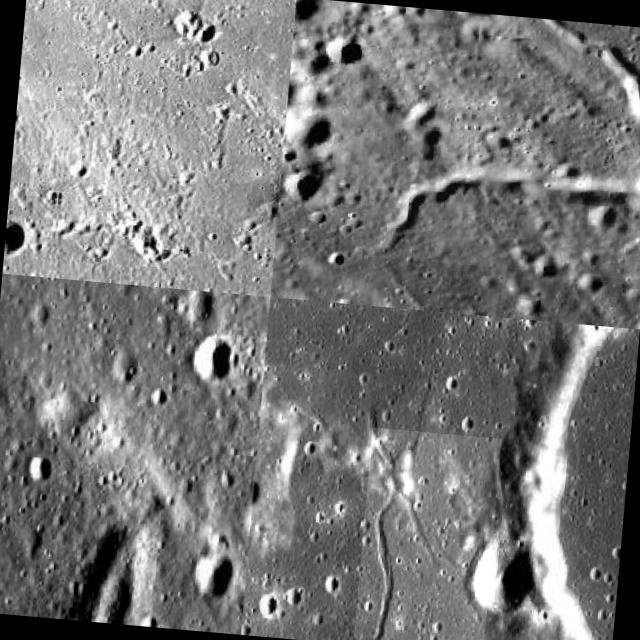crater: (351, 3, 640, 280), (0, 404, 234, 630), (354, 427, 503, 640)
